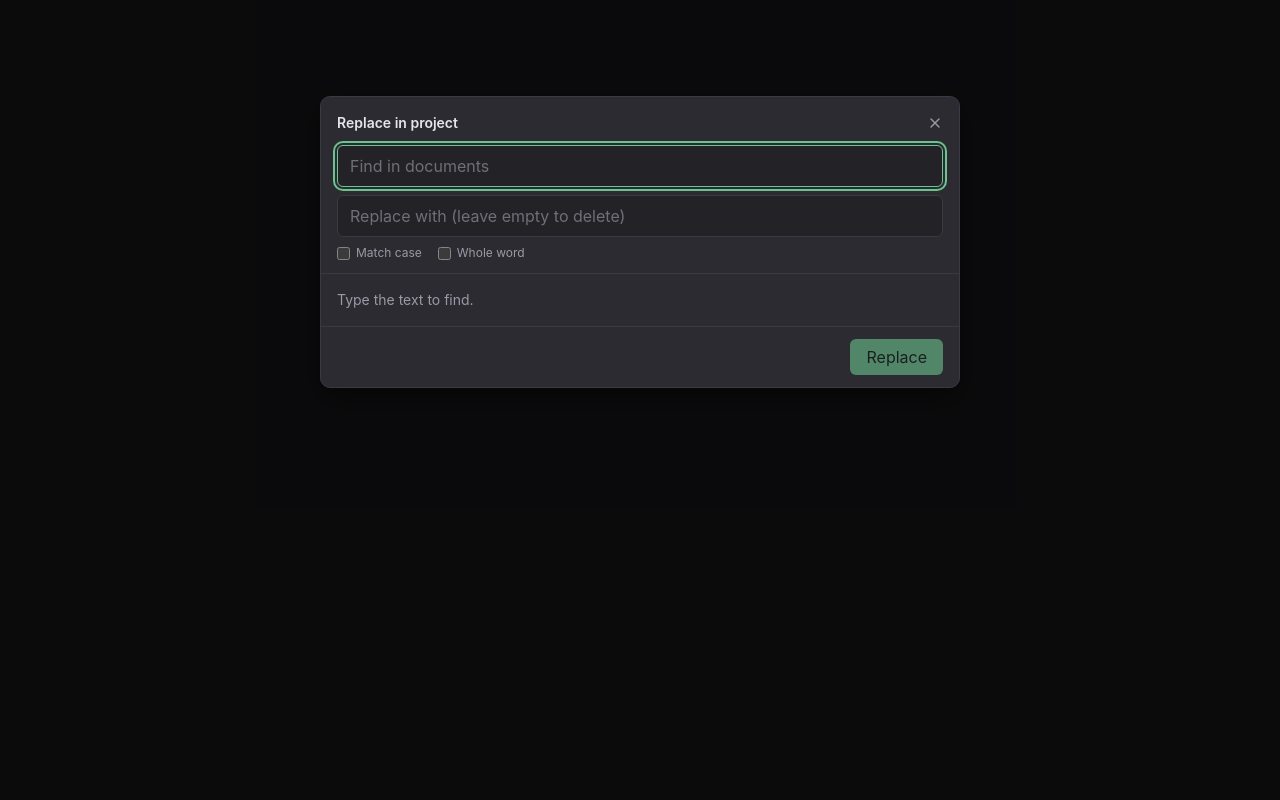
Test: ReplaceDialog (F-10.2) › says when no document holds the text, and keeps the button disabled
In the field labelled "Find": (640, 166) [337,145,943,187], type "zeppelin"
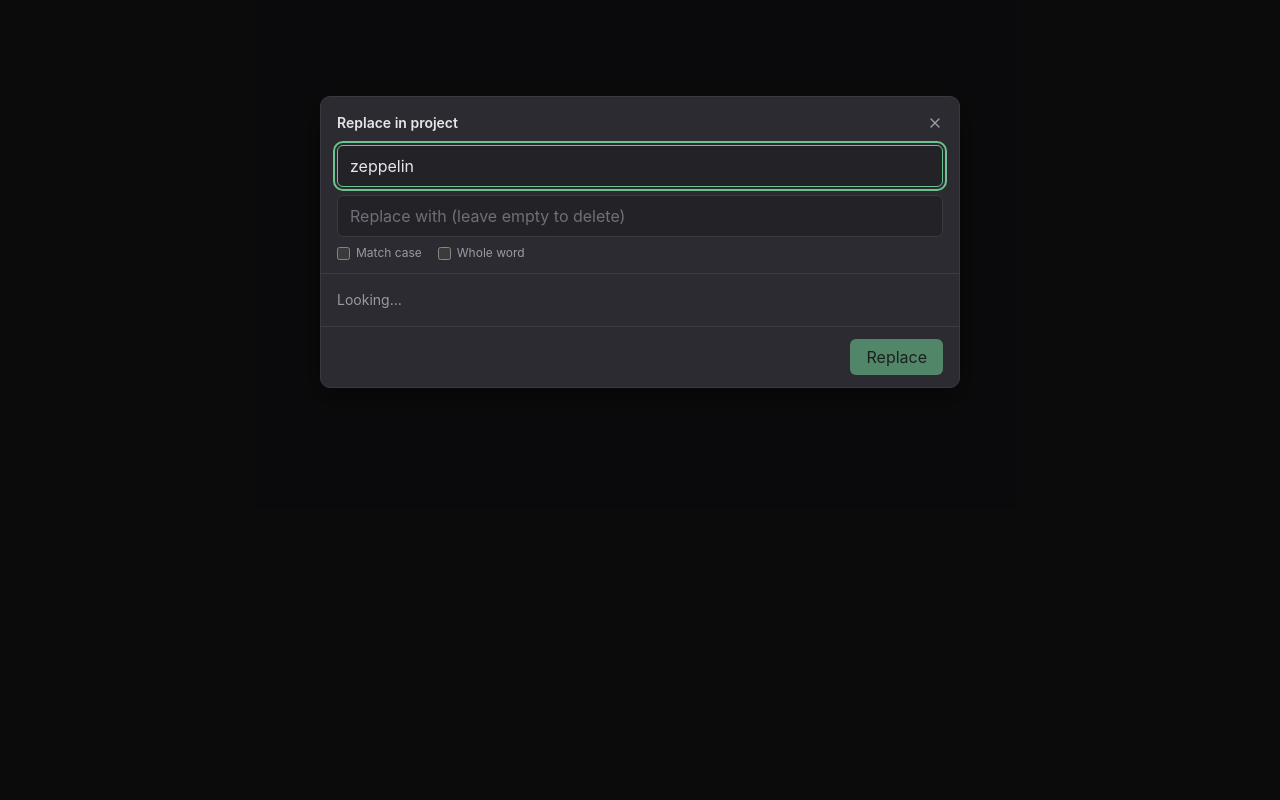
In the field labelled "Replace with": (640, 216) [337,195,943,237], type "x"
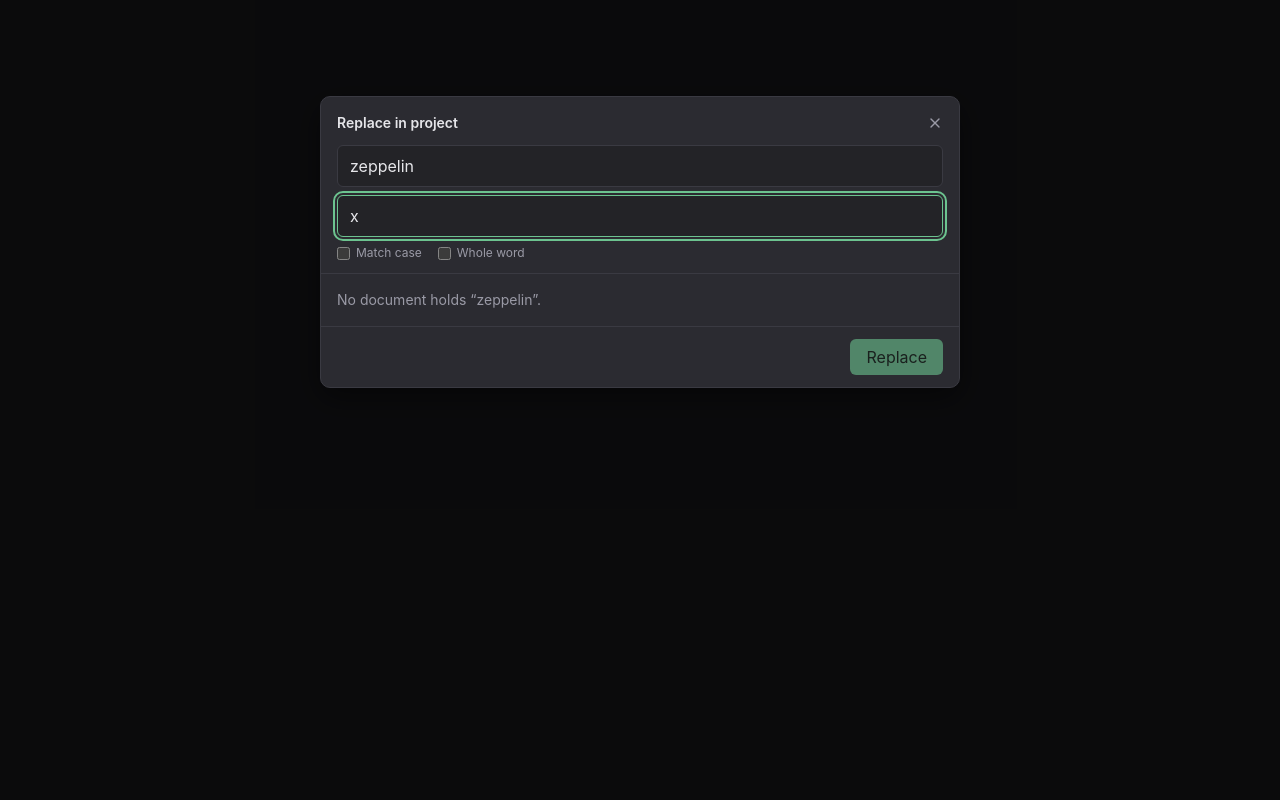
Check: the button "Replace" is disabled, box [850,339,943,375]
Check: the message reads "No document holds “zeppelin”.", box [337,291,541,308]
